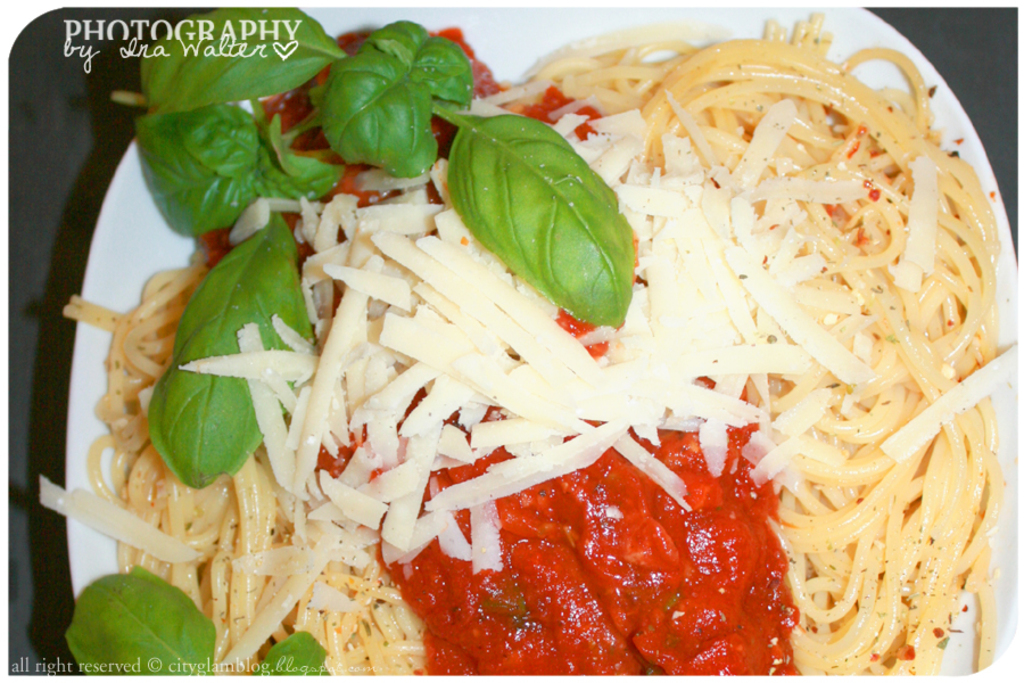pasta: (33, 10, 1023, 682)
